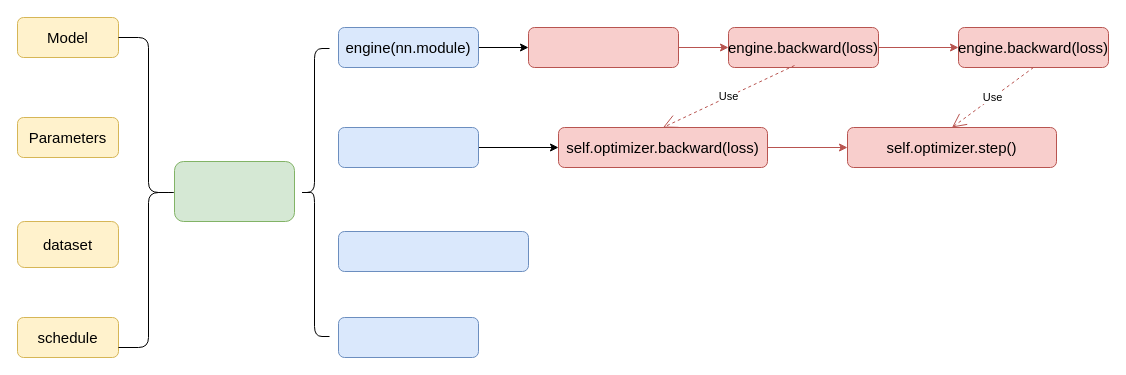
Image size: 1126x375. Some labels were removed from this diagram. Each missing label, with the centre of its shape:
deepspeed. initilze: (234,191)
engine.lr_scheduler: (408,337)
engine.optimizer: (408,147)
engine.training_dataloader: (433,251)
output=engine(inputs): (603,47)
